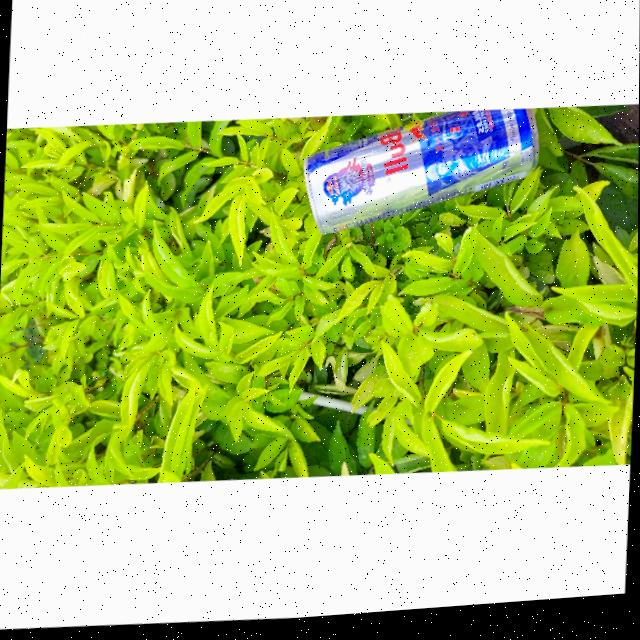Redbull DanceYourStyle: (300, 109, 539, 241)
